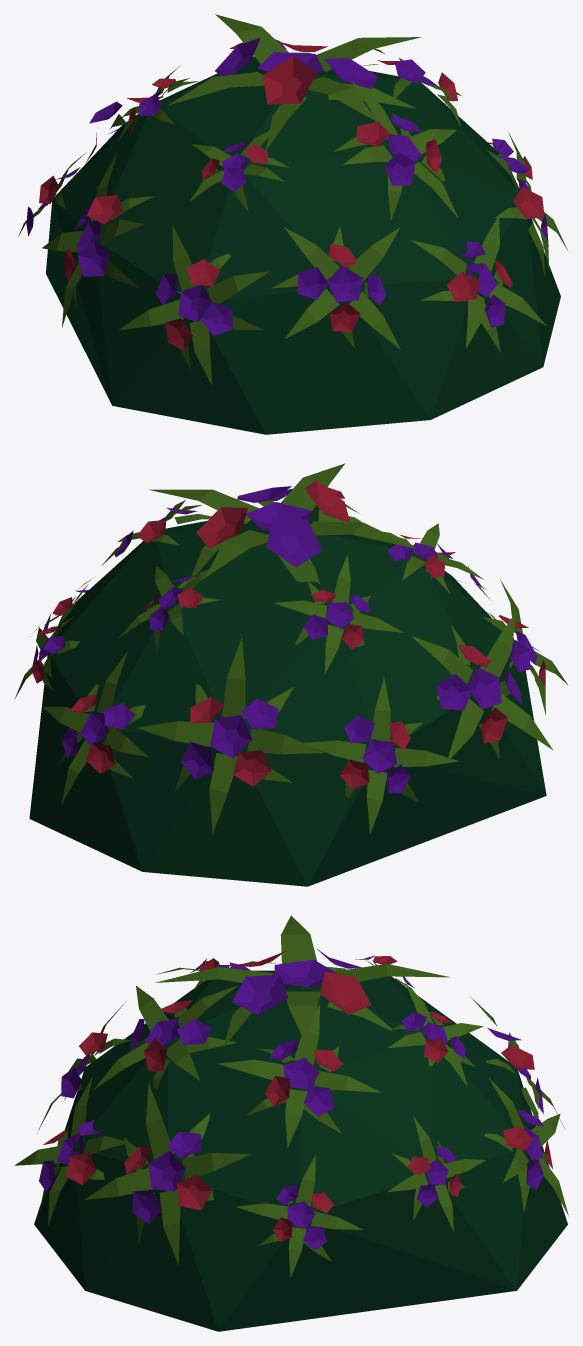
The model's file is flowersBush.glb.
3 renders of one model, top to bottom at view 1: azimuth 30°, elevation 25°; view 2: azimuth 150°, elevation 25°; view 3: azimuth 270°, elevation 25°, orthographic. The views are drawn at different scales.
Visible parts, largest first — view 1: Flowers1; view 2: Flowers1; view 3: Flowers1.
Part boxes in pixels (x1=…): Flowers1: x1=18, y1=14, x2=567, y2=434; Flowers1: x1=14, y1=463, x2=567, y2=886; Flowers1: x1=14, y1=915, x2=568, y2=1331.
Size of the model in its own units: 2.13 by 1.12 by 2.08.
